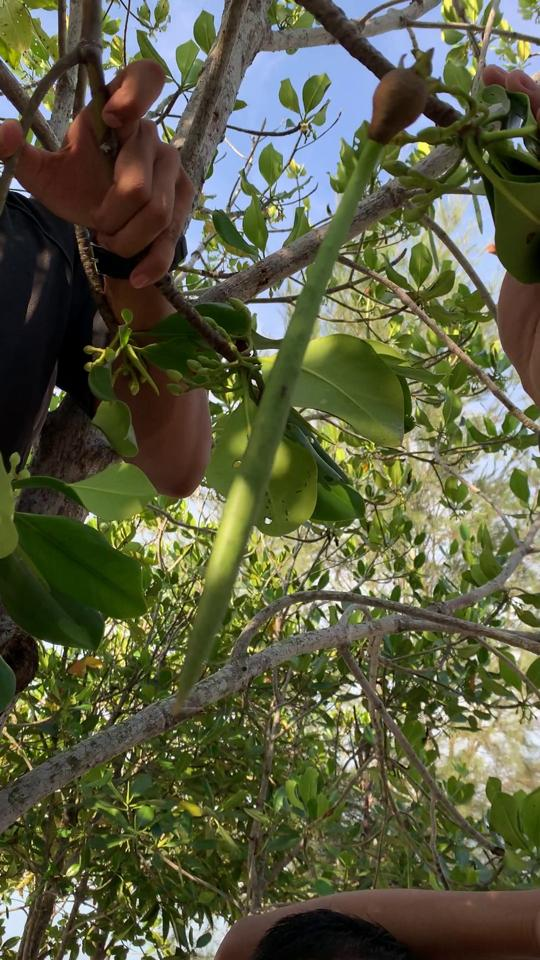mentah: (145, 43, 460, 734)
